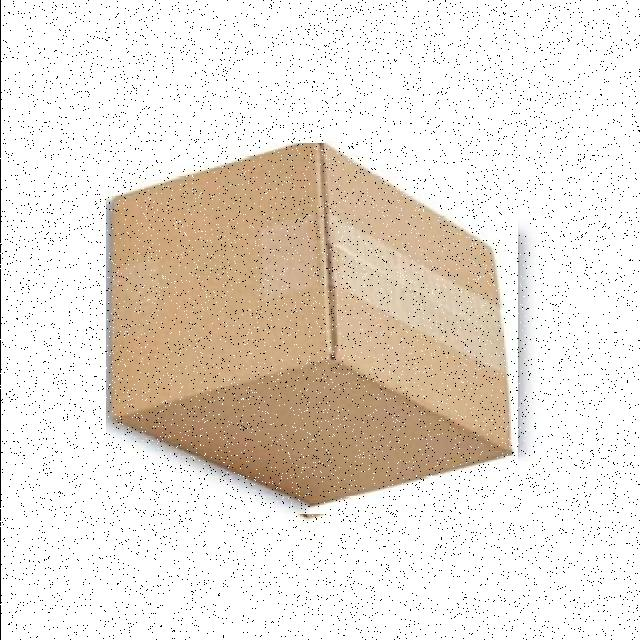normal: (105, 143, 517, 514)
